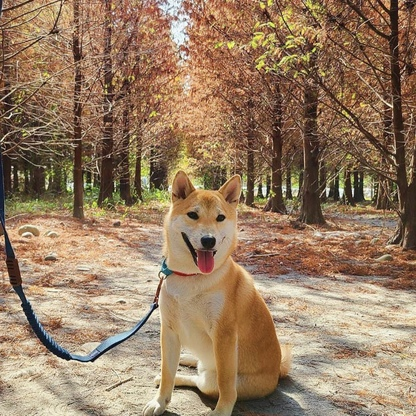shiba: (140, 160, 295, 416)
